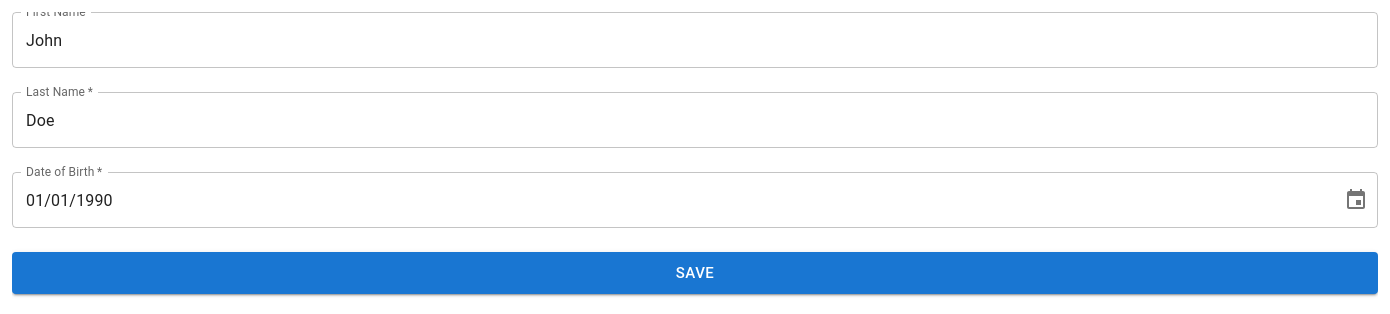
UserForm › shows "Saving..." while submitting existing user
Click the button with test id "submit-button".
click(695, 273)  # box x1=12 y1=252 x2=1378 y2=294
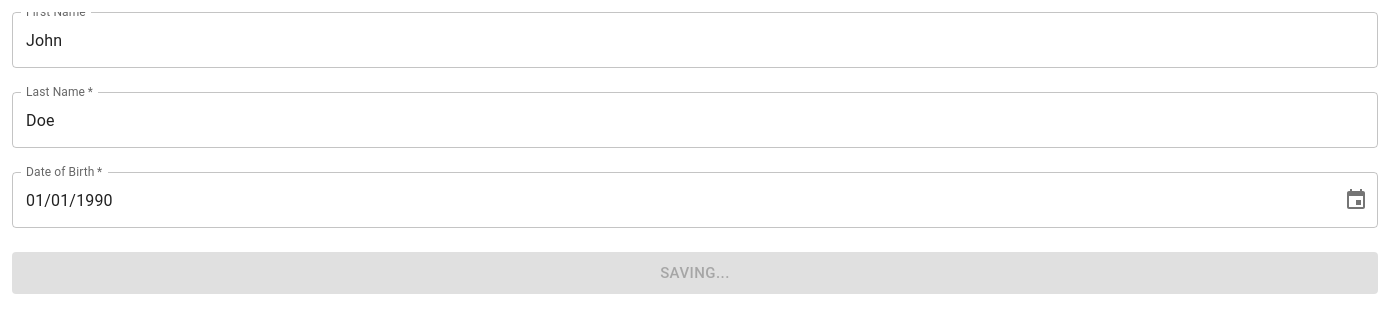
Expected: the button "Saving..." is shown, x1=12 y1=252 x2=1378 y2=294
